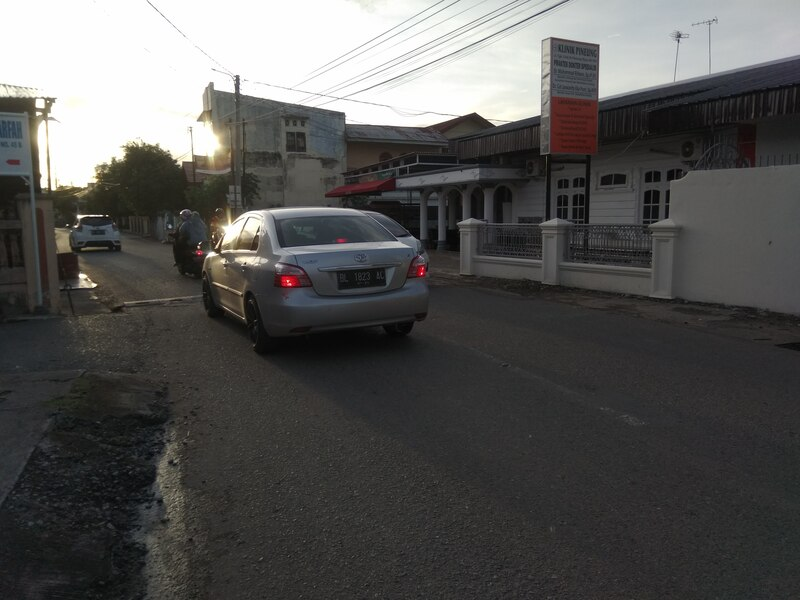car: (198, 206, 435, 360), (63, 211, 132, 255)
motorcycle: (166, 226, 216, 279)
